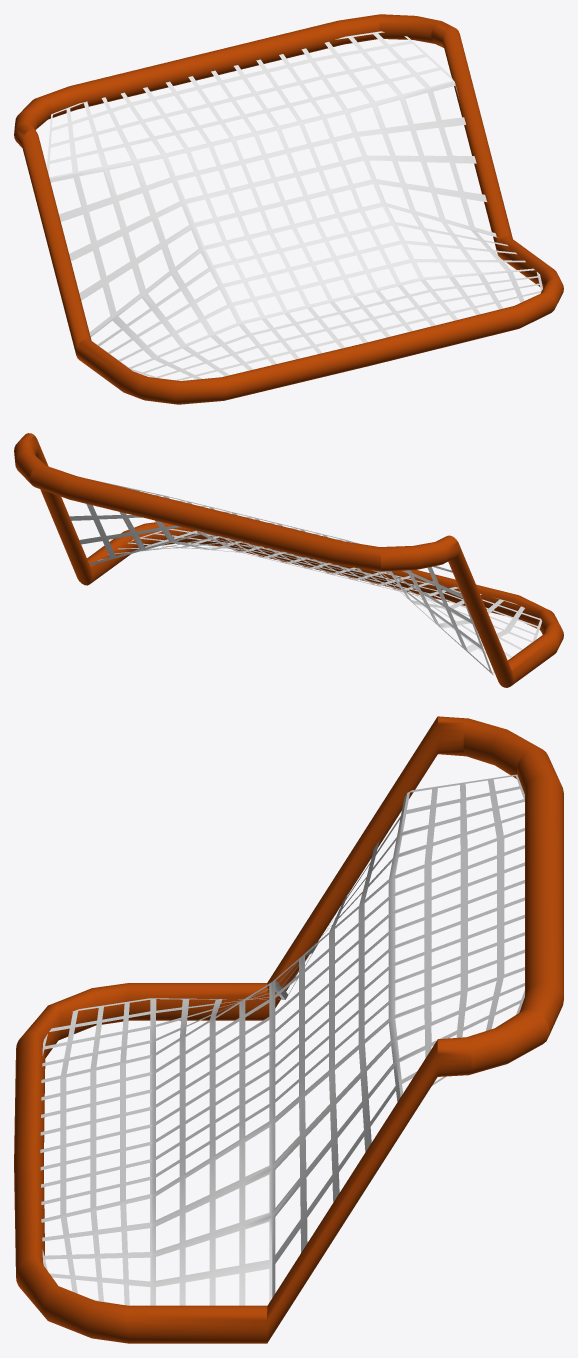
File: Net.fbx
3 views of the same model, one above another, from view 1: azimuth 30°, elevation 25°; view 2: azimuth 150°, elevation 25°; view 3: azimuth 270°, elevation 25° (orthographic). The views are drawn at different scales.
Parts seen in each view (by area): view 1: Net, Frame; view 2: Frame, Net; view 3: Net, Frame.
Part boxes in pixels (x1,y1,x2,y2): Net: (46,31,542,380); Frame: (14,14,563,404); Frame: (14,433,563,687); Net: (61,479,542,675); Net: (40,774,524,1305); Frame: (14,716,563,1343).
Size of the model in its own units: 40.76 by 17.04 by 28.11.
